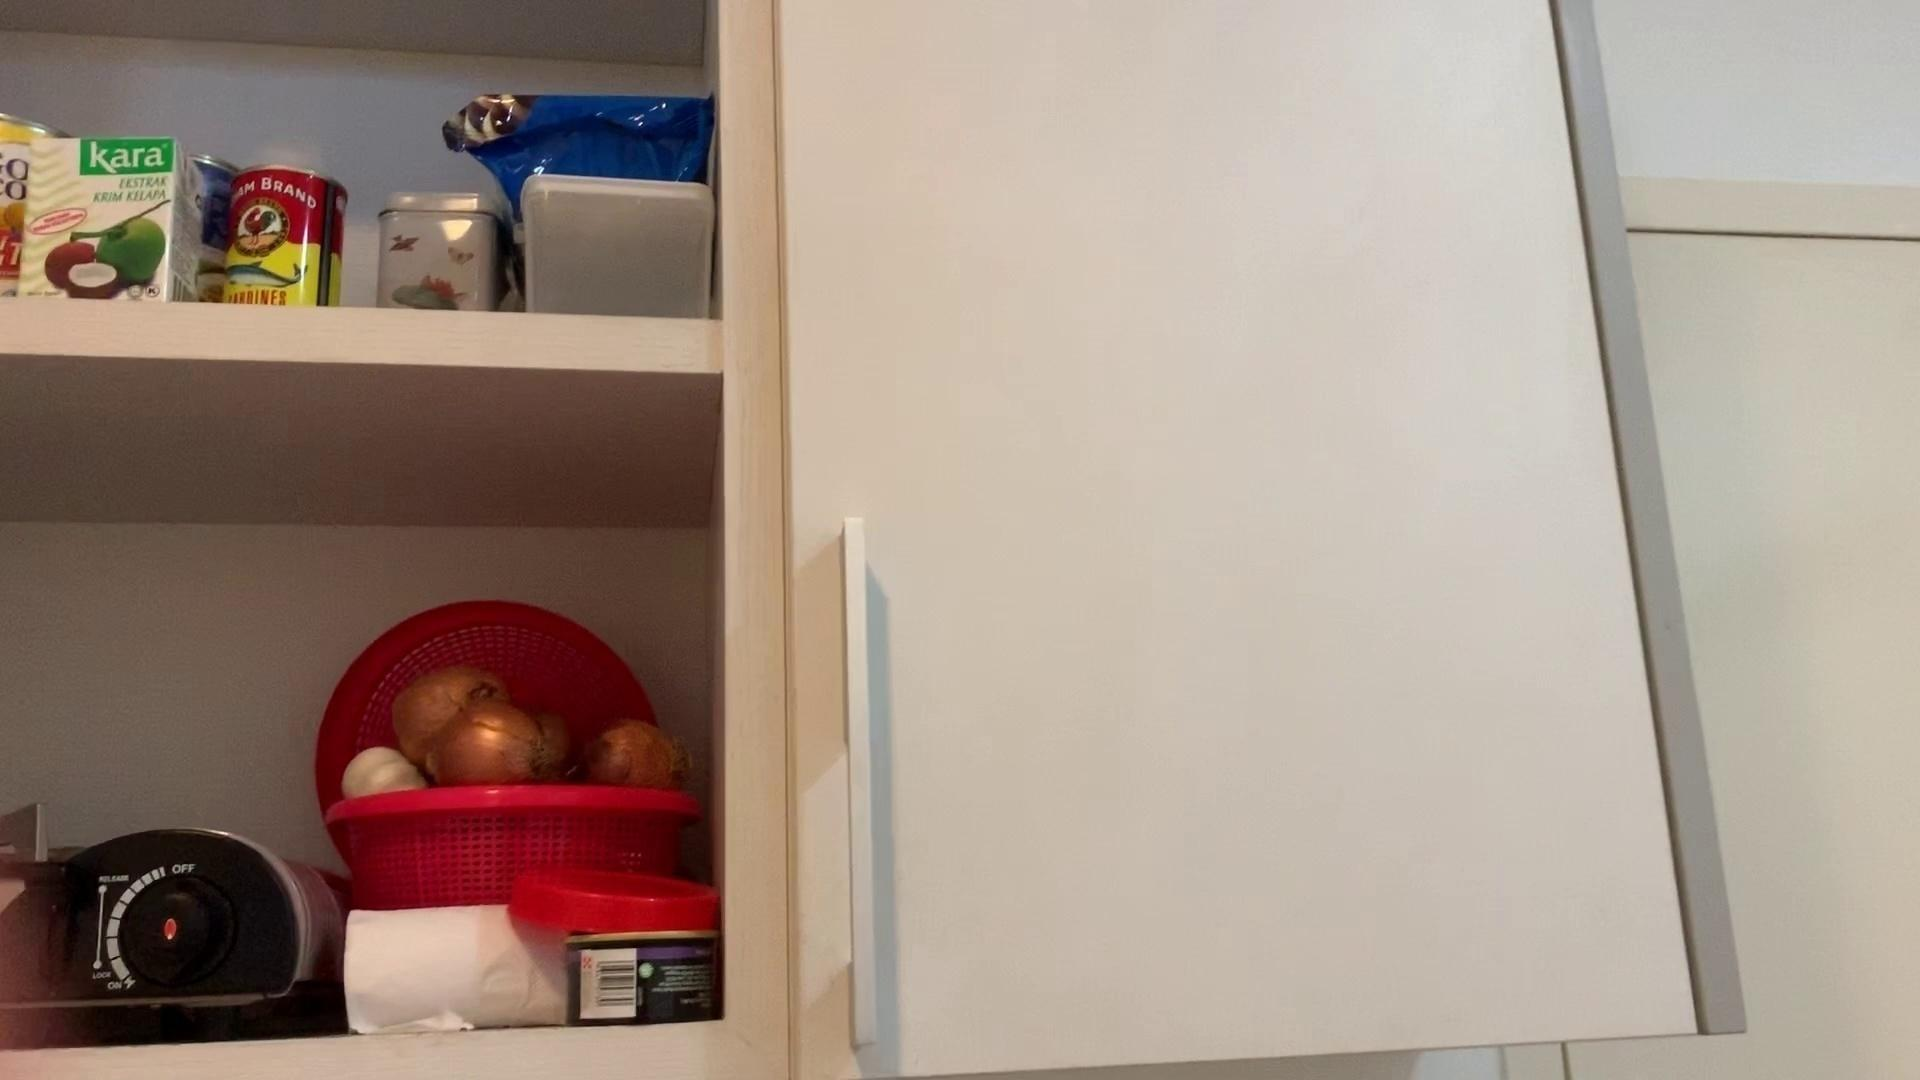cabinet_door: (799, 3, 1607, 1072)
handle: (824, 506, 902, 1063)
